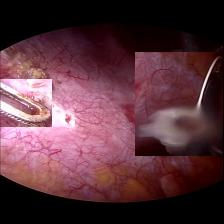Grasper: (0, 78, 52, 126)
Specimen Bag: (135, 51, 224, 155)
